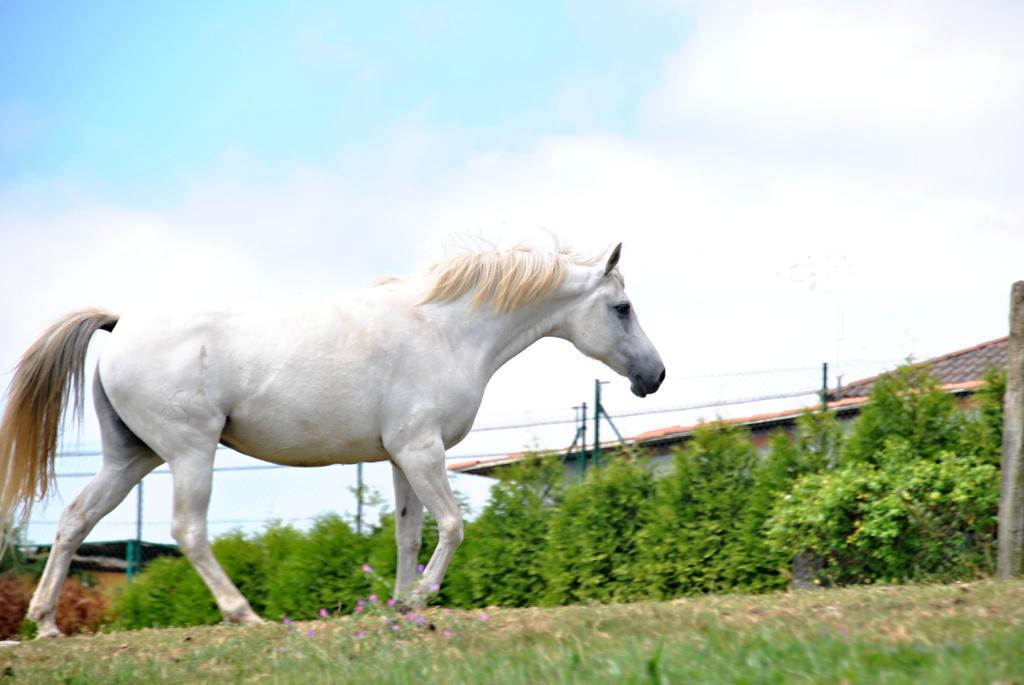horse: (0, 228, 672, 644)
